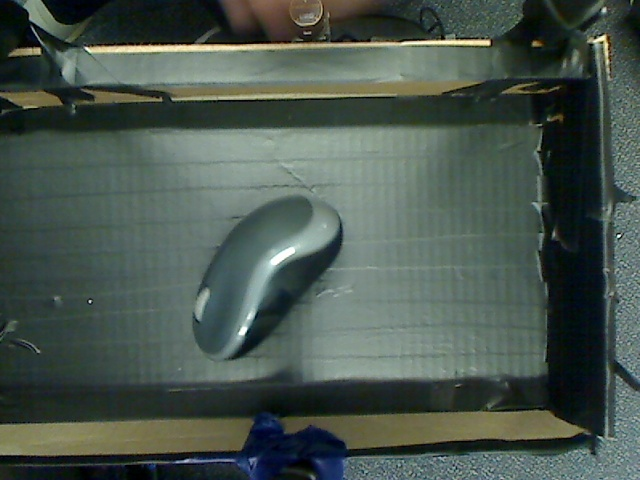mouse: (167, 175, 368, 376)
